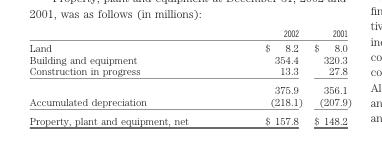table: (28, 28, 351, 125)
table column: (28, 28, 226, 125), (226, 28, 307, 125), (307, 28, 351, 125)
table column header: (28, 28, 351, 39)
table row: (28, 79, 351, 95), (28, 64, 351, 79), (28, 95, 351, 110), (28, 110, 351, 125), (28, 39, 351, 53), (28, 28, 351, 39), (28, 53, 351, 64)
